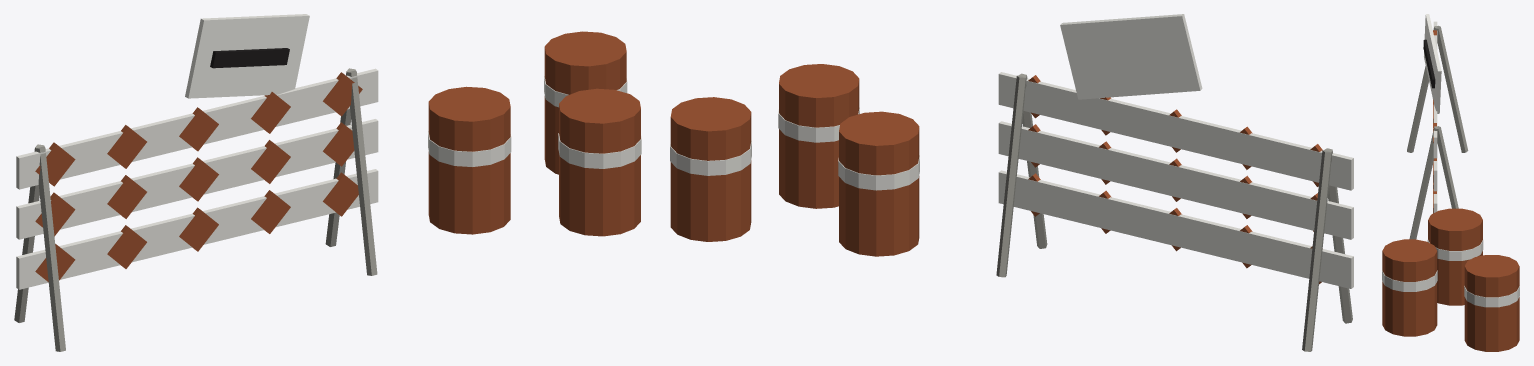
Rendered from pass_barricade.glb.
3 views of the same model, side by side, from view 1: azimuth 30°, elevation 25°; view 2: azimuth 150°, elevation 25°; view 3: azimuth 270°, elevation 25° (orthographic). The views are drawn at different scales.
Visible parts, largest first — view 1: pass_barricade; view 2: pass_barricade; view 3: pass_barricade.
Boxes of the visible parts, x1,y1,x2,y2 form: pass_barricade: [14, 14, 641, 351]; pass_barricade: [670, 14, 1353, 351]; pass_barricade: [1382, 14, 1519, 351].
Size of the model in its own units: 5.4 by 2.27 by 1.51.
